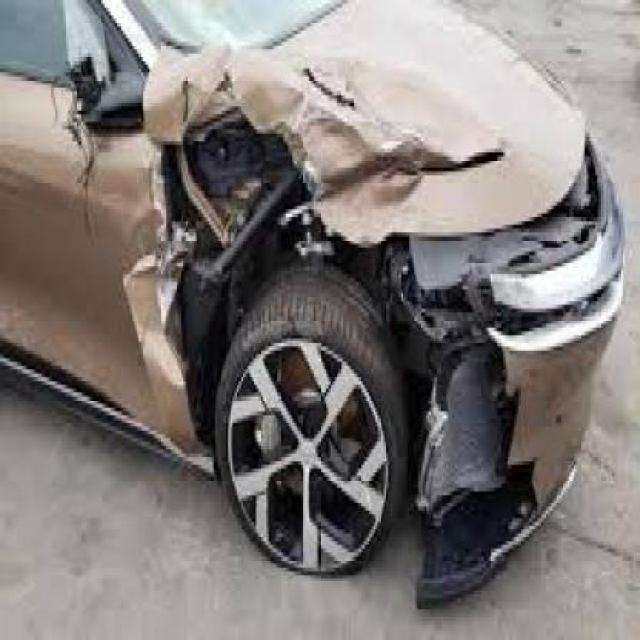damaged-front-bumper: (412, 152, 630, 598)
